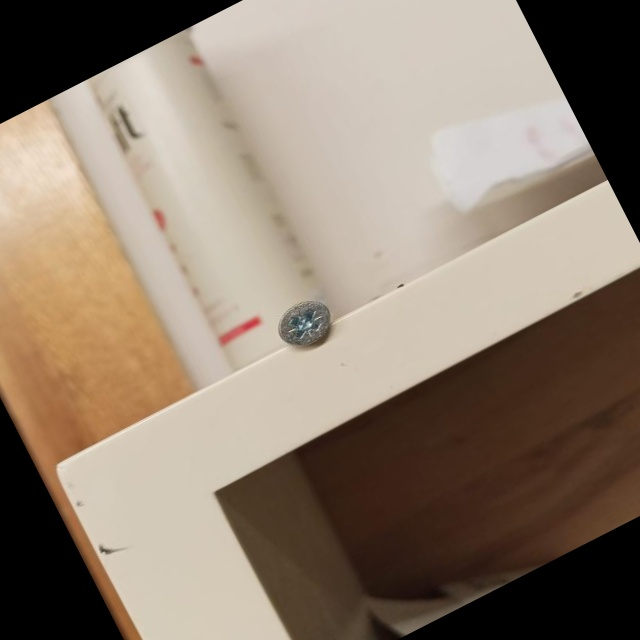pozidriv: (270, 292, 339, 356)
